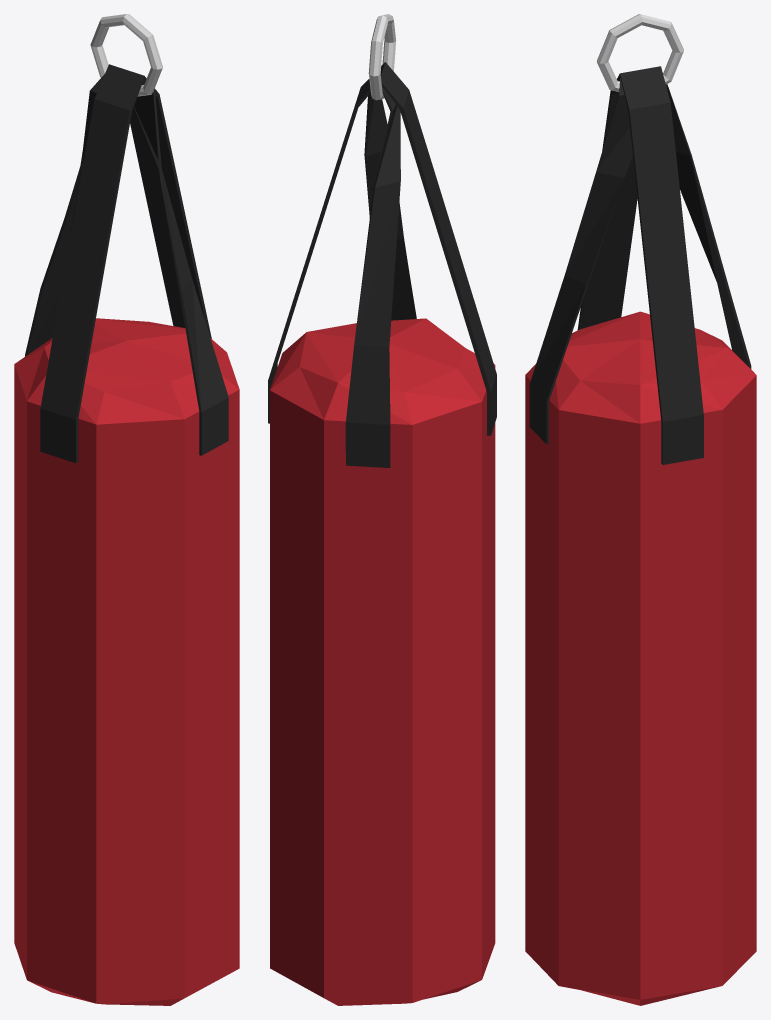
The model's file is punchingbag.glb.
3 views of the same model, side by side, from view 1: azimuth 30°, elevation 25°; view 2: azimuth 150°, elevation 25°; view 3: azimuth 270°, elevation 25° (orthographic).
Visible parts, largest first — view 1: Node; view 2: Node; view 3: Node.
Part boxes in pixels (box(x1,y1,x2,y2)): Node: box(14, 14, 239, 1005); Node: box(268, 14, 496, 1005); Node: box(525, 14, 756, 1005).
Bounding box in the file's own units: 1.03 × 4.74 × 1.03.
